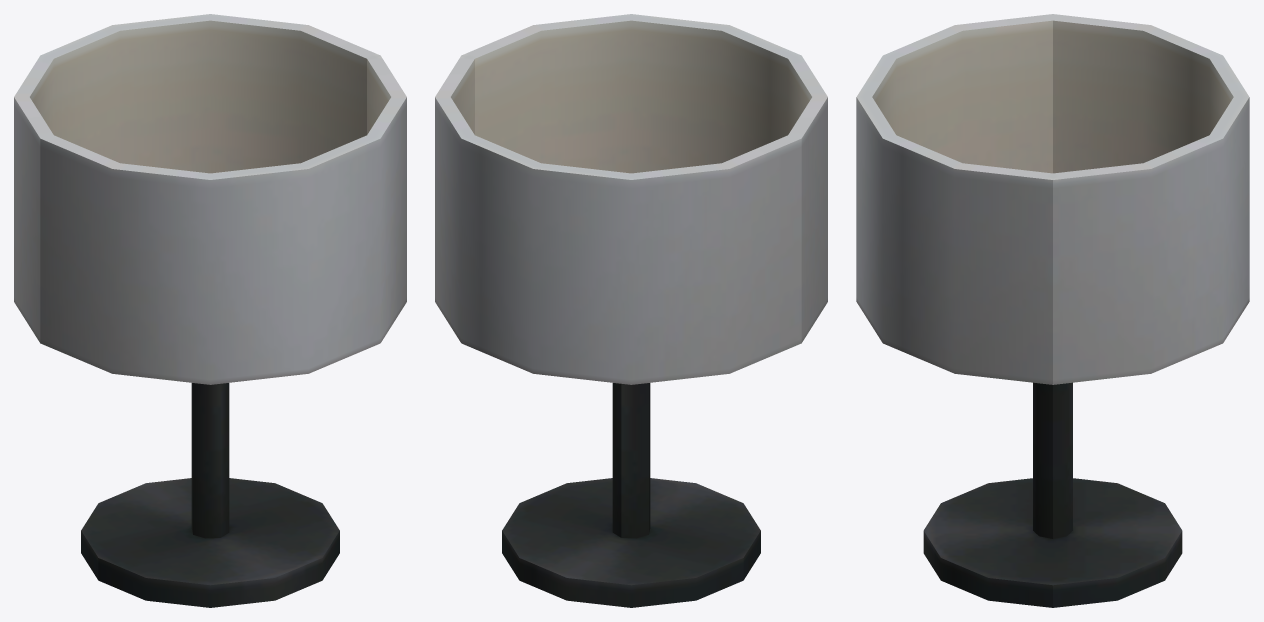
File: lampara.obj
3 views of the same model, side by side, from view 1: azimuth 30°, elevation 25°; view 2: azimuth 150°, elevation 25°; view 3: azimuth 270°, elevation 25° (orthographic).
Visible parts, largest first — view 1: s4studio_mesh_1_DIFFUSE.001; view 2: s4studio_mesh_1_DIFFUSE.001; view 3: s4studio_mesh_1_DIFFUSE.001.
Part boxes in pixels (x1,y1,x2,y2): s4studio_mesh_1_DIFFUSE.001: (14, 14, 406, 607); s4studio_mesh_1_DIFFUSE.001: (435, 14, 827, 607); s4studio_mesh_1_DIFFUSE.001: (856, 14, 1249, 607).
Size of the model in its own units: 0.3433 by 0.4398 by 0.3433.
